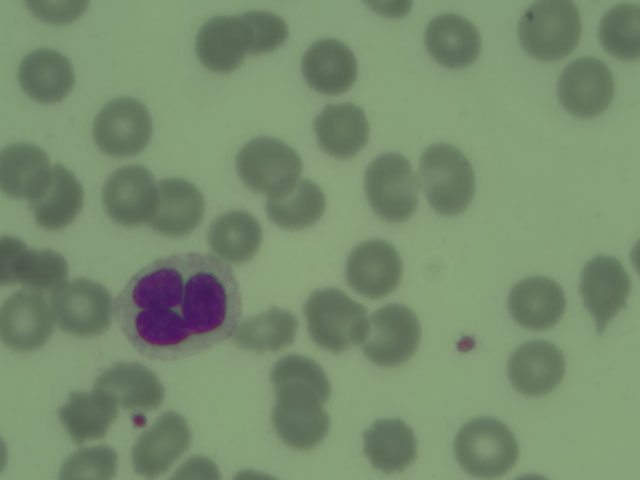Platelets: (454, 332, 480, 358), (131, 413, 151, 433)
RBC: (423, 144, 474, 212), (365, 153, 416, 219), (95, 362, 162, 412), (141, 411, 187, 475), (61, 386, 115, 440), (349, 241, 402, 295), (306, 296, 359, 350), (365, 306, 418, 360), (263, 177, 316, 231), (365, 418, 418, 472), (460, 419, 513, 473), (510, 339, 563, 393), (577, 262, 630, 316), (509, 276, 562, 330), (244, 139, 297, 193), (561, 62, 614, 116), (525, 2, 578, 56), (427, 18, 480, 72), (313, 106, 366, 160), (304, 41, 357, 95), (273, 389, 326, 443), (275, 351, 328, 405), (241, 304, 294, 358), (57, 281, 110, 335), (208, 207, 261, 261), (152, 176, 205, 230), (101, 169, 154, 223), (95, 102, 148, 156), (32, 167, 85, 221), (19, 49, 72, 103), (1, 245, 68, 287), (1, 296, 53, 350), (1, 142, 52, 196), (238, 7, 294, 51), (600, 3, 640, 61), (194, 21, 240, 68), (21, 1, 89, 26), (61, 450, 114, 480)
WBC: (124, 252, 235, 362)
